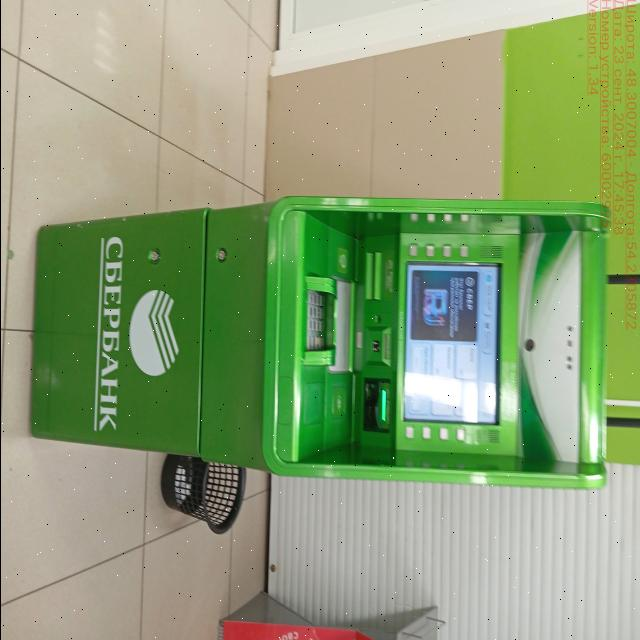bank: (24, 195, 609, 484)
